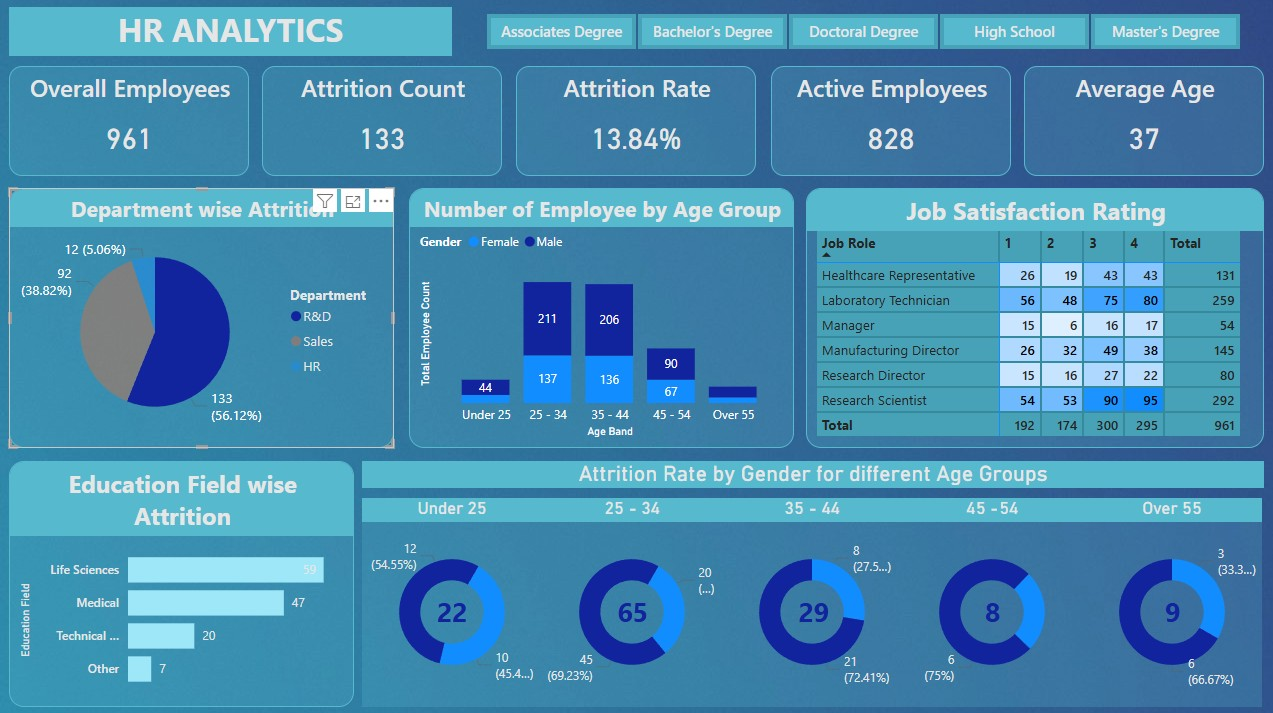

The page's visual inventory and layout, read from the dashboard file:
{"tool":"powerbi","page":{"name":"Page 1","canvas":[1280,720],"ordinal":0},"visuals":[{"type":"card","title":"Overall Employees","fields":{"Values":["Sum(HR data.Employee Count)"]},"box":[12.5,67.5,240,110],"z":0},{"type":"card","title":"Attrition Count","fields":{"Values":["Sum(HR data.Attrition Count)"]},"box":[266.2,67.5,240,110],"z":1000},{"type":"card","title":"Attrition Rate","fields":{"Values":["HR data.Attrition Rate"]},"box":[520,67.5,240,110],"z":2000},{"type":"card","title":"Active Employees","fields":{"Values":["HR data.Active Employees"]},"box":[775,67.5,240,110],"z":3000},{"type":"card","title":"Average Age","fields":{"Values":["Avg(HR data.Age)"]},"box":[1027.5,67.5,240,110],"z":4000},{"type":"pieChart","title":"Department wise Attrition","fields":{"Category":["HR data.Department"],"Y":["Sum(HR data.Attrition Count)"]},"box":[12.5,190,385,260],"z":5000},{"type":"columnChart","title":"Number of Employee by Age Group","fields":{"Category":["HR data.CF_age band"],"Y":["Sum(HR data.Employee Count)"],"Series":["HR data.Gender"]},"box":[412.5,190,385,260],"z":6000},{"type":"pivotTable","title":"Job Satisfaction Rating","fields":{"Rows":["HR data.Job Role"],"Columns":["HR data.Job Satisfaction"],"Values":["Sum(HR data.Employee Count)"]},"box":[810,190,457.5,260],"z":7000},{"type":"barChart","title":"Education Field wise Attrition","fields":{"Category":["HR data.Education Field"],"Y":["Sum(HR data.Attrition Count)"]},"box":[12.5,462.5,345,246.2],"z":8000},{"type":"donutChart","title":"Under 25","fields":{"Category":["HR data.Gender"],"Y":["Sum(HR data.Attrition Count)"],"Series":["HR data.CF_age band"]},"box":[366.2,500,180,208.8],"z":9000},{"type":"textbox","title":"Attrition Rate by Gender for different Age Groups","box":[366.2,462.5,901.2,27.5],"z":10000},{"type":"donutChart","title":"25 - 34","fields":{"Category":["HR data.Gender"],"Y":["Sum(HR data.Attrition Count)"],"Series":["HR data.CF_age band"]},"box":[546.2,500,180,208.8],"z":11000},{"type":"donutChart","title":"35 - 44","fields":{"Category":["HR data.Gender"],"Y":["Sum(HR data.Attrition Count)"],"Series":["HR data.CF_age band"]},"box":[726.2,500,180,208.8],"z":12000},{"type":"donutChart","title":"45 -54","fields":{"Category":["HR data.Gender"],"Y":["Sum(HR data.Attrition Count)"],"Series":["HR data.CF_age band"]},"box":[906.2,500,180,208.8],"z":13000},{"type":"donutChart","title":"Over 55","fields":{"Category":["HR data.Gender"],"Y":["Sum(HR data.Attrition Count)"],"Series":["HR data.CF_age band"]},"box":[1086.2,500,180,208.8],"z":14000},{"type":"card","fields":{"Values":["Sum(HR data.Attrition Count)"]},"box":[433.6,594.5,44.5,40],"z":15000},{"type":"card","fields":{"Values":["Sum(HR data.Attrition Count)"]},"box":[599.1,579.1,74.5,70.9],"z":16000},{"type":"card","fields":{"Values":["Sum(HR data.Attrition Count)"]},"box":[780,579.1,74.5,70.9],"z":17000},{"type":"card","fields":{"Values":["Sum(HR data.Attrition Count)"]},"box":[959.1,579.1,74.5,70.9],"z":18000},{"type":"card","fields":{"Values":["Sum(HR data.Attrition Count)"]},"box":[1139.1,579.1,74.5,70.9],"z":19000},{"type":"textbox","title":"HR ANALYTICS DASHBOARD","box":[12.5,8.8,443.8,48.8],"z":20000},{"type":"slicer","fields":{"Values":["HR data.Education"]},"box":[465,8.8,802.5,48.8],"z":21000}]}

Visuals, with their boxes in screenshot pixels (x1, y1, x2, y2), scaled from the page's 1280x720 canvas onto the 1273x713 screenshot:
"Overall Employees" card: (left=12, top=67, right=251, bottom=176)
"Attrition Count" card: (left=265, top=67, right=503, bottom=176)
"Attrition Rate" card: (left=517, top=67, right=756, bottom=176)
"Active Employees" card: (left=771, top=67, right=1009, bottom=176)
"Average Age" card: (left=1022, top=67, right=1261, bottom=176)
"Department wise Attrition" pieChart: (left=12, top=188, right=395, bottom=446)
"Number of Employee by Age Group" columnChart: (left=410, top=188, right=793, bottom=446)
"Job Satisfaction Rating" pivotTable: (left=806, top=188, right=1261, bottom=446)
"Education Field wise Attrition" barChart: (left=12, top=458, right=356, bottom=702)
"Under 25" donutChart: (left=364, top=495, right=543, bottom=702)
"Attrition Rate by Gender for different Age Groups" textbox: (left=364, top=458, right=1260, bottom=485)
"25 - 34" donutChart: (left=543, top=495, right=722, bottom=702)
"35 - 44" donutChart: (left=722, top=495, right=901, bottom=702)
"45 -54" donutChart: (left=901, top=495, right=1080, bottom=702)
"Over 55" donutChart: (left=1080, top=495, right=1259, bottom=702)
card - Sum(HR data.Attrition Count): (left=431, top=589, right=475, bottom=628)
card - Sum(HR data.Attrition Count): (left=596, top=573, right=670, bottom=644)
card - Sum(HR data.Attrition Count): (left=776, top=573, right=850, bottom=644)
card - Sum(HR data.Attrition Count): (left=954, top=573, right=1028, bottom=644)
card - Sum(HR data.Attrition Count): (left=1133, top=573, right=1207, bottom=644)
"HR ANALYTICS DASHBOARD" textbox: (left=12, top=9, right=454, bottom=57)
slicer - HR data.Education: (left=462, top=9, right=1261, bottom=57)
